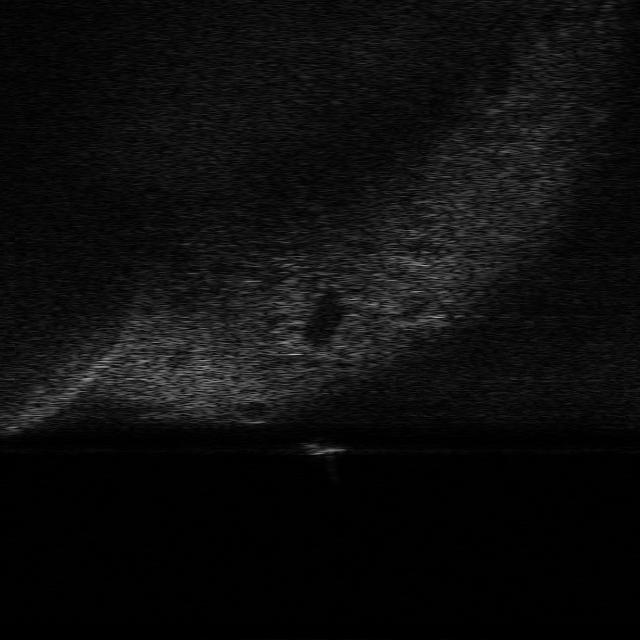cube: (300, 439, 356, 457)
